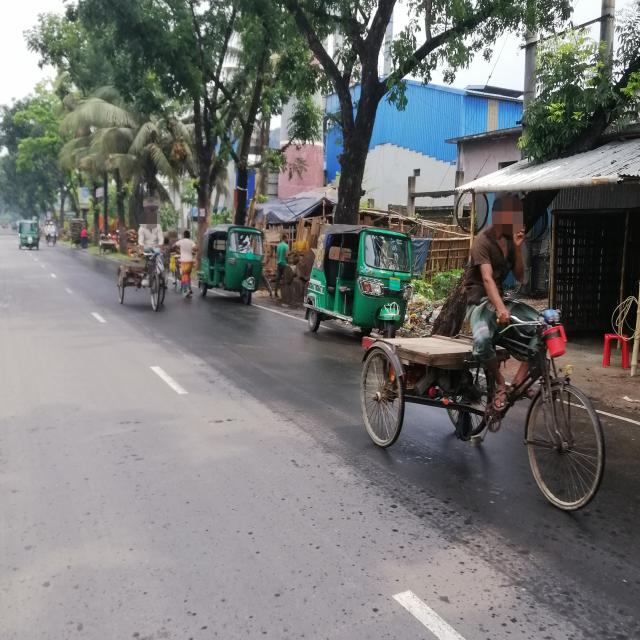Van: (349, 290, 614, 509)
